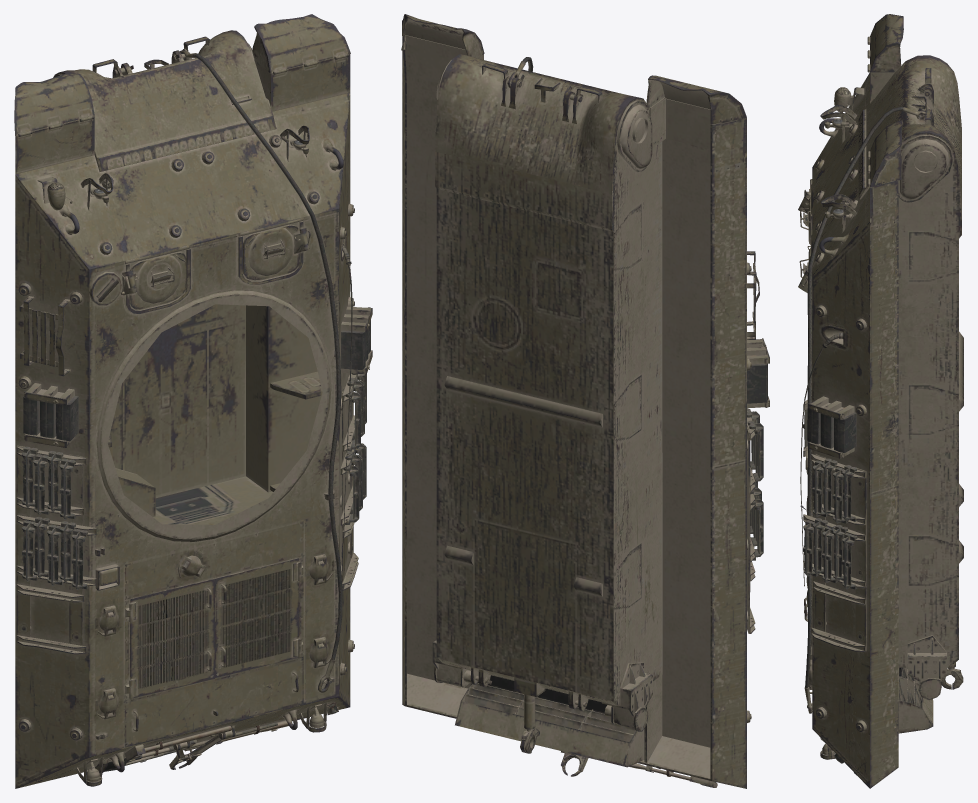
The model's file is Hull.glb.
3 views of the same model, side by side, from view 1: azimuth 30°, elevation 25°; view 2: azimuth 150°, elevation 25°; view 3: azimuth 270°, elevation 25° (orthographic). The views are drawn at different scales.
Visible parts, largest first — view 1: set_0_group_0; view 2: set_0_group_0; view 3: set_0_group_0.
Part boxes in pixels (bbox=[...]): set_0_group_0: bbox=[14, 14, 372, 788]; set_0_group_0: bbox=[401, 14, 769, 788]; set_0_group_0: bbox=[798, 14, 963, 788].
Size of the model in its own units: 3.17 by 6.22 by 1.42.
Materials: 1 (1 with a texture image).
